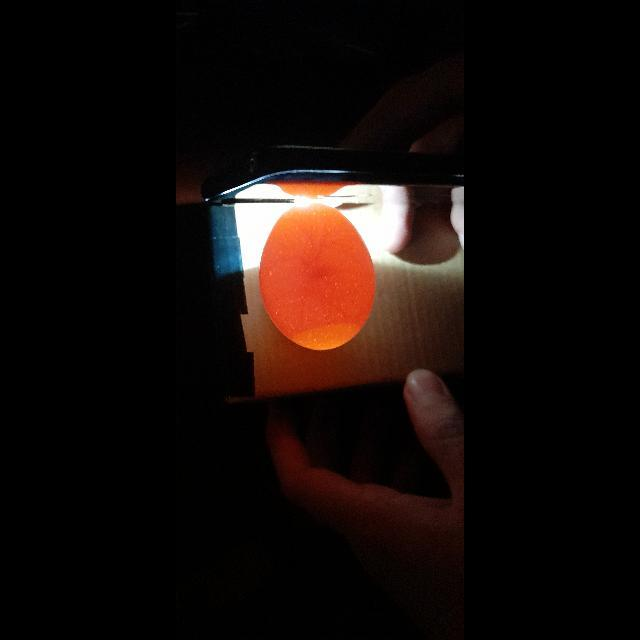Fertile: (258, 197, 379, 353)
